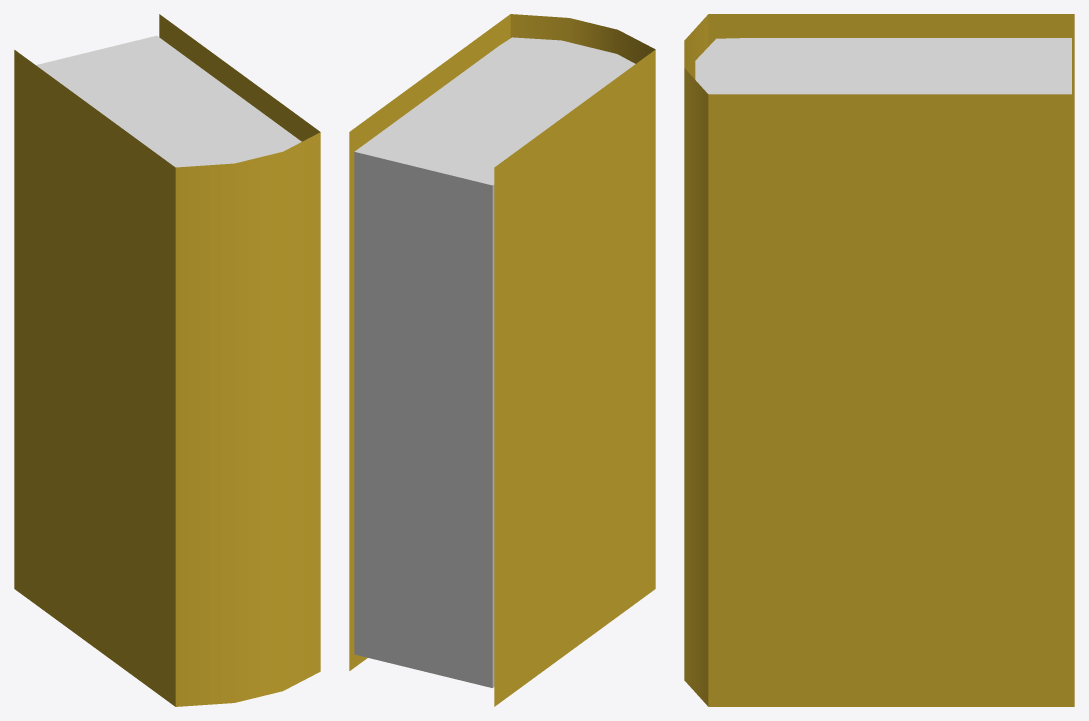
Rendered from PuzzleBook1.fbx.
3 renders of one model, left to right at view 1: azimuth 30°, elevation 25°; view 2: azimuth 150°, elevation 25°; view 3: azimuth 270°, elevation 25°, orthographic. The views are drawn at different scales.
Parts seen in each view (by area): view 1: Puzzle book 1, Cube.152; view 2: Puzzle book 1, Cube.152; view 3: Puzzle book 1, Cube.152.
Boxes of the visible parts, <box> form: Puzzle book 1: <box>14,14,320,706</box>; Cube.152: <box>36,35,301,167</box>; Puzzle book 1: <box>349,14,655,706</box>; Cube.152: <box>354,37,635,687</box>; Puzzle book 1: <box>684,14,1074,706</box>; Cube.152: <box>695,38,1071,94</box>.
Size of the model in its own units: 6.89 by 24.46 by 14.14.
